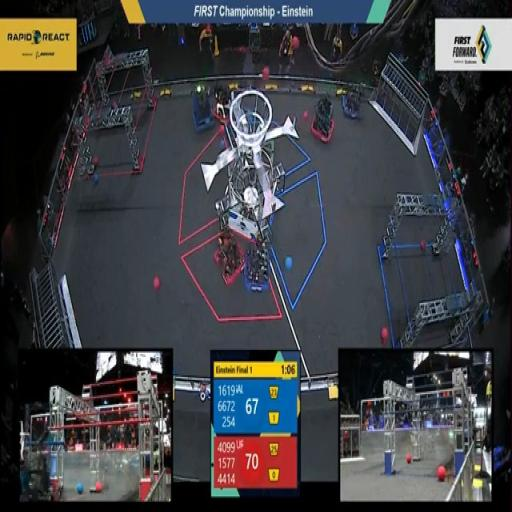robot: (210, 218, 247, 290), (244, 240, 274, 297), (187, 77, 216, 135), (308, 90, 337, 148), (211, 76, 239, 128), (342, 80, 365, 122)
